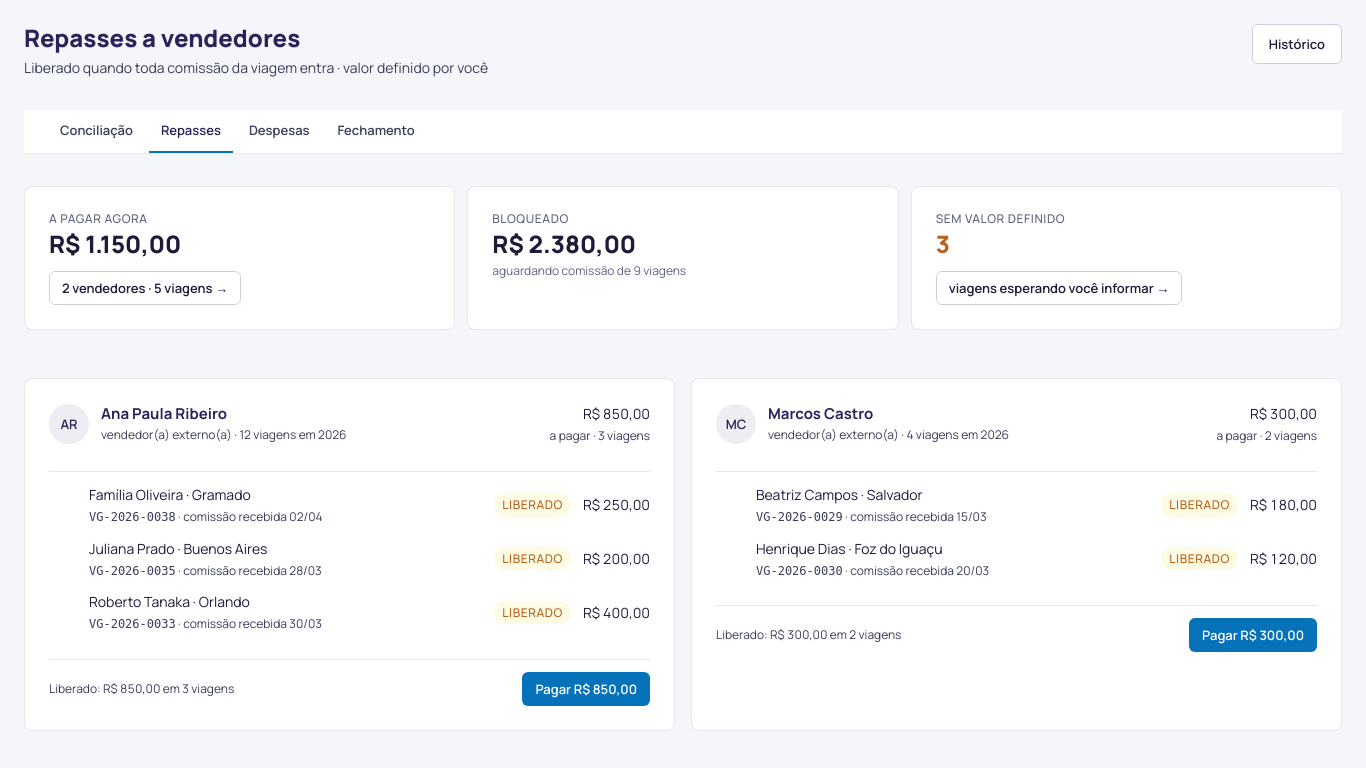
Pagar abre o PagarRepasseModal com o total do vendedor
The width and height of the screenshot is (1366, 768).
Expected: the text "Ana Paula Ribeiro" is shown, [101, 403, 227, 424]
Click the button "Pagar R$ 850,00": (586, 689) [522, 672, 650, 706]
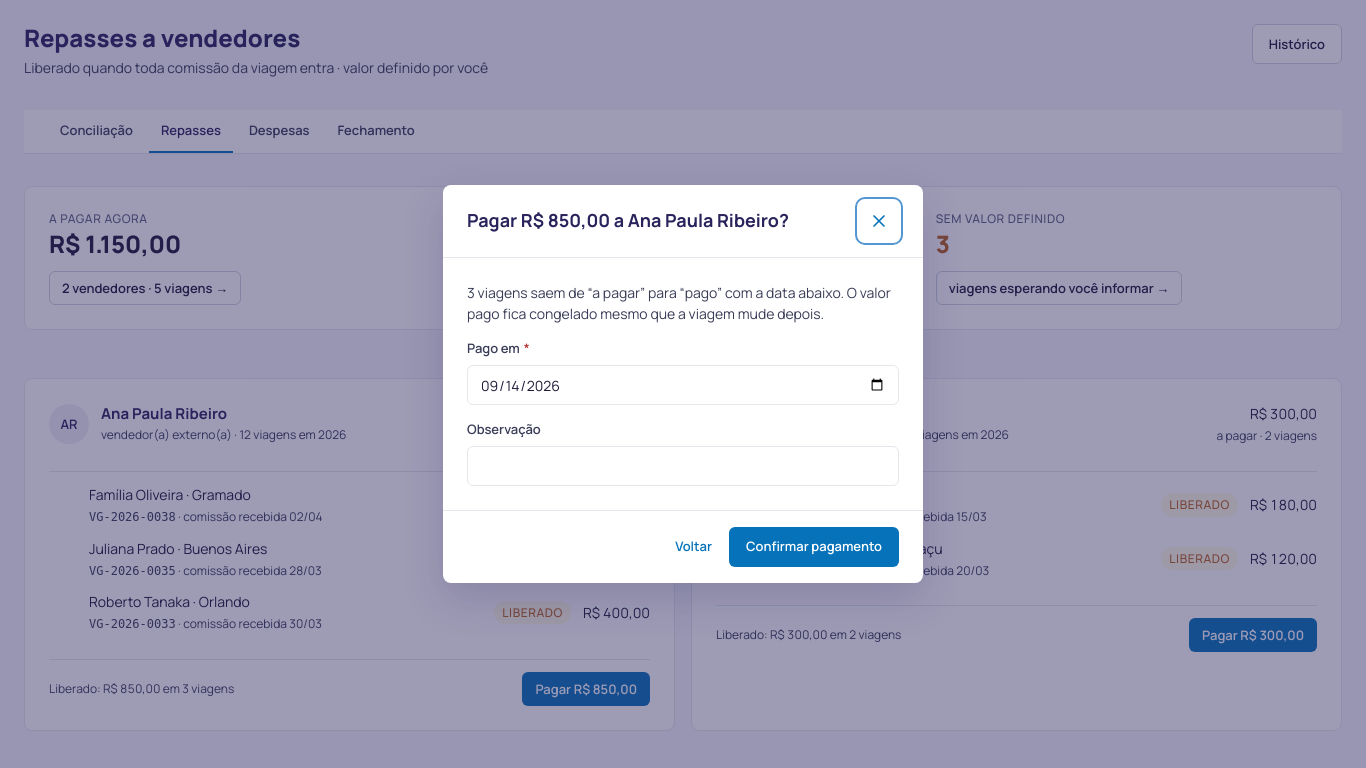
Now the heading "Pagar R$ 850,00 a Ana Paula Ribeiro?" is shown, box [467, 209, 789, 233]
